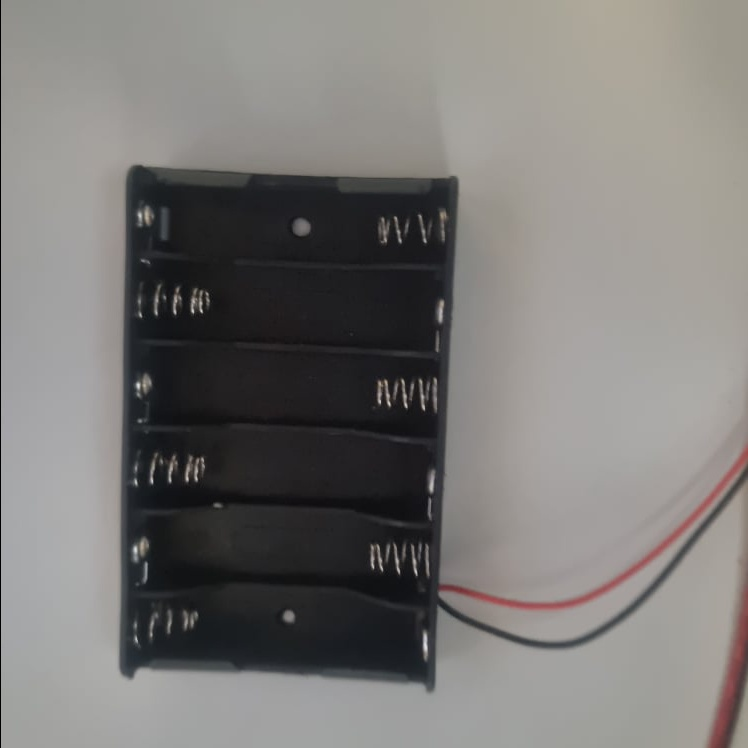BATTERY BOX: (120, 164, 457, 681)
